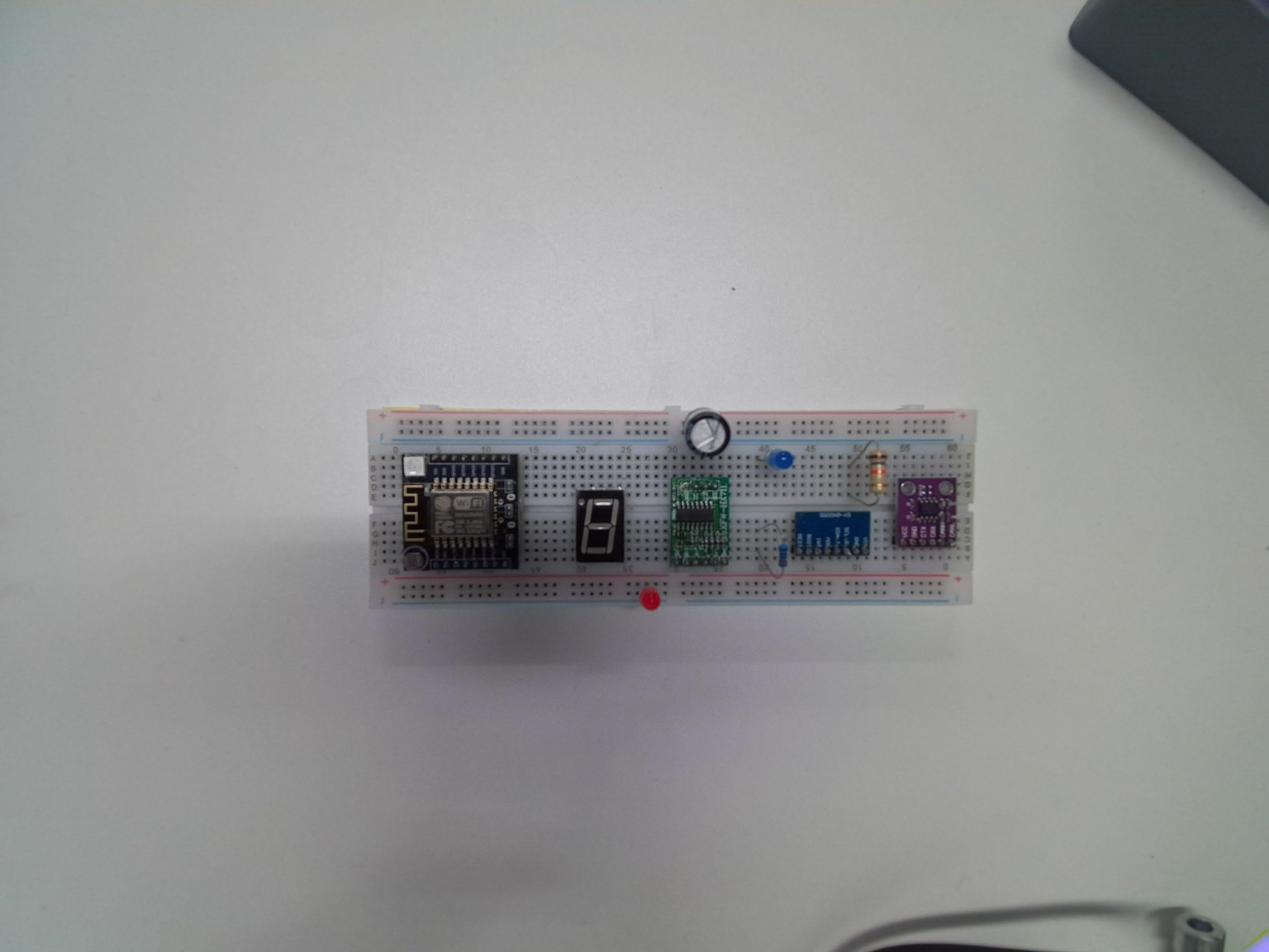base: (365, 407, 978, 613)
blue-board: (789, 508, 873, 561)
blue-led: (767, 450, 793, 471)
capacitor: (682, 407, 730, 458)
digit-board: (573, 488, 628, 564)
esp: (399, 451, 521, 572)
green-board: (670, 474, 731, 567)
purple-board: (891, 474, 958, 550)
red-led: (640, 587, 663, 611)
resistor-big: (869, 445, 889, 500)
resistor-small: (778, 541, 788, 571)
